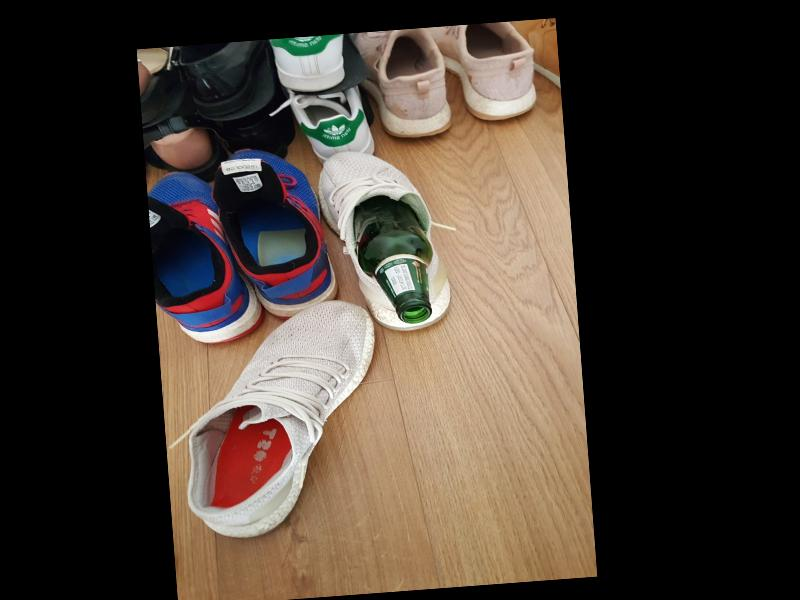Beer: (350, 193, 437, 328)
